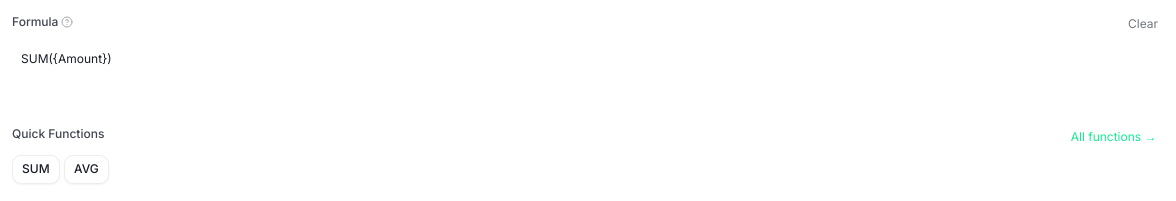
Test: Formula › clears formula when clear button is clicked
Click the button with aria-label "clear formula".
click(1143, 24)  # box 1122,12 -> 1164,36
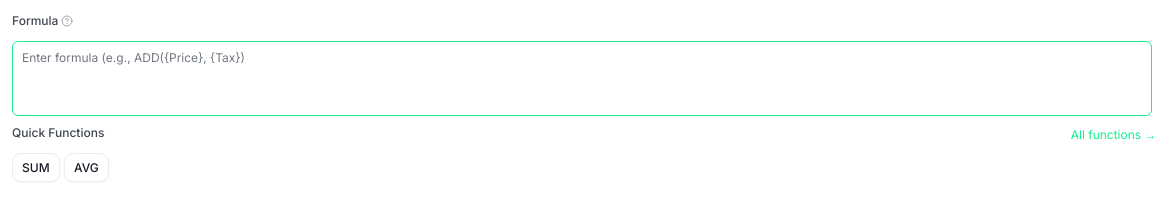
Expected: the text box with placeholder "Enter formula (e.g., ADD({Price}, {Tax})" is empty, 12,40 -> 1152,116
